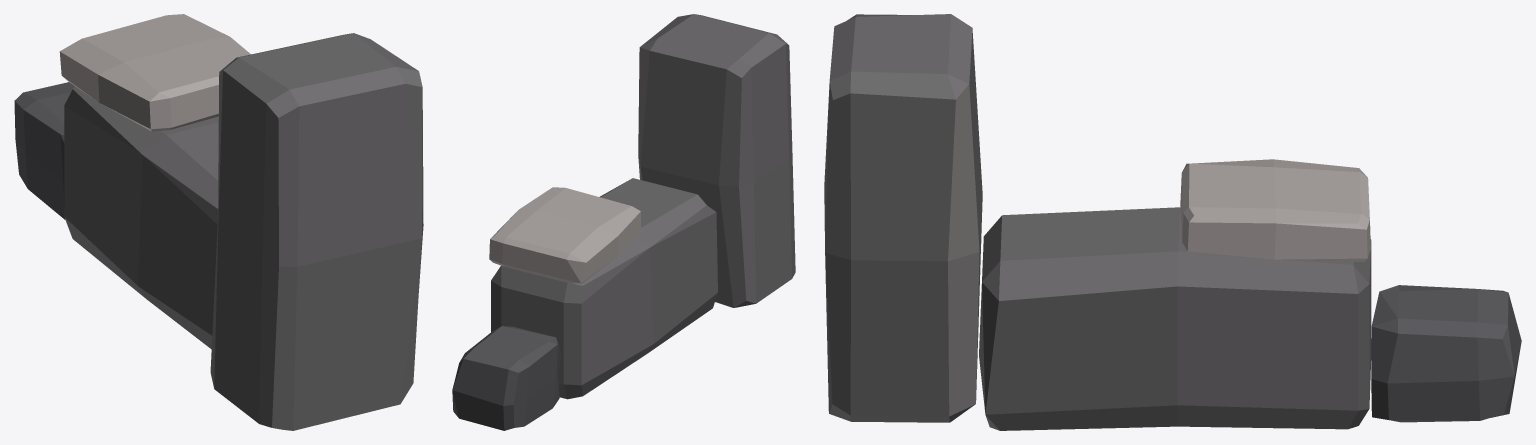
Rendered from Murêt_roche_V5.fbx.
3 views of the same model, side by side, from view 1: azimuth 30°, elevation 25°; view 2: azimuth 150°, elevation 25°; view 3: azimuth 270°, elevation 25° (orthographic). The views are drawn at different scales.
Parts seen in each view (by area): view 1: Cube.003; view 2: Cube.003; view 3: Cube.003.
Boxes of the visible parts, x1,y1,x2,y2 form: Cube.003: [14, 14, 423, 430]; Cube.003: [452, 14, 795, 430]; Cube.003: [824, 14, 1521, 430].
Size of the model in its own units: 39.76 by 72.62 by 129.
